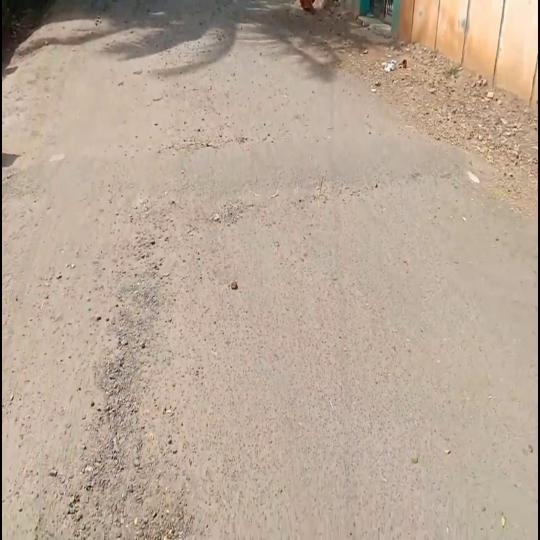Speed Bump: (49, 138, 466, 188)
